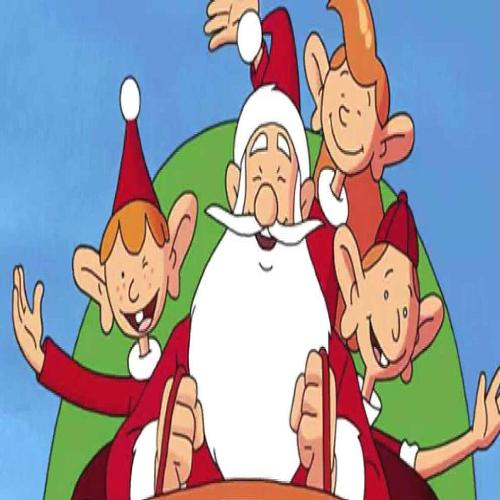Santa: (104, 7, 390, 499)
